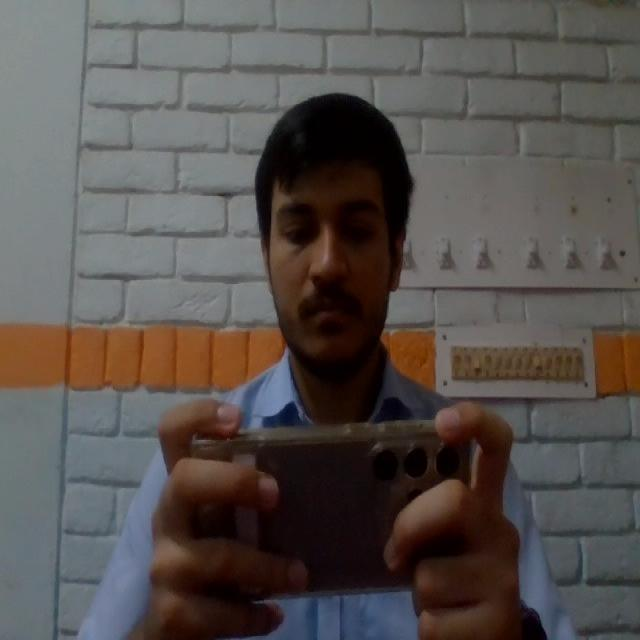phone: (182, 426, 476, 595)
using-phone: (64, 92, 576, 638)
